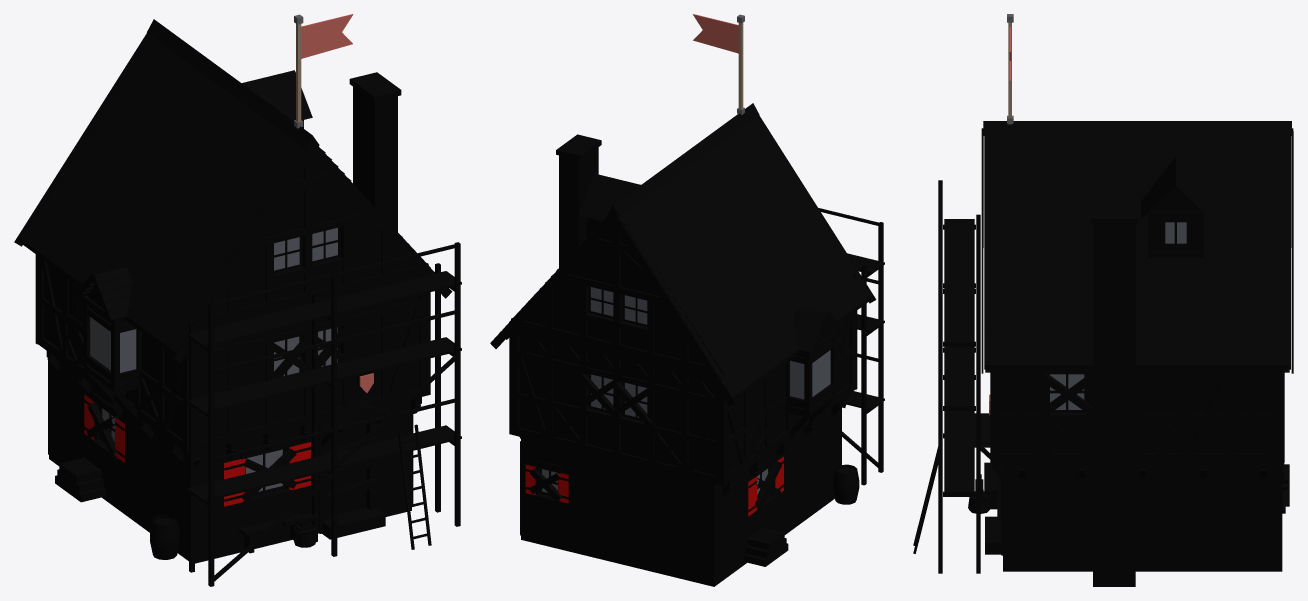
The model's file is wohnhaus_zwerg_s2_g4.glb.
The picture shows the model from 3 angles, left to right: view 1: azimuth 30°, elevation 25°; view 2: azimuth 150°, elevation 25°; view 3: azimuth 270°, elevation 25°; orthographic projection. The views are drawn at different scales.
Visible parts, largest first — view 1: Haus, Dach, Geruest, Scheiben, Leerstand, Fahne; view 2: Haus, Dach, Geruest, Scheiben, Leerstand, Fahne; view 3: Dach, Haus, Geruest, Leerstand, Scheiben, Fahne.
Boxes of the visible parts, bbox=[...] form: Haus: bbox=[35, 37, 430, 563]; Dach: bbox=[14, 19, 452, 362]; Geruest: bbox=[187, 242, 461, 586]; Scheiben: bbox=[90, 228, 337, 491]; Leerstand: bbox=[86, 326, 378, 504]; Fahne: bbox=[294, 14, 353, 128]; Haus: bbox=[509, 118, 859, 586]; Dach: bbox=[490, 103, 876, 406]; Geruest: bbox=[818, 208, 884, 485]; Scheiben: bbox=[542, 287, 830, 495]; Leerstand: bbox=[529, 374, 781, 508]; Fahne: bbox=[693, 14, 744, 114]; Dach: bbox=[981, 121, 1293, 373]; Haus: bbox=[968, 137, 1285, 586]; Geruest: bbox=[913, 180, 980, 573]; Leerstand: bbox=[985, 369, 1289, 519]; Scheiben: bbox=[1050, 222, 1186, 409]; Fahne: bbox=[1007, 14, 1013, 124].
Size of the model in its own units: 7.04 by 11.75 by 8.03.
